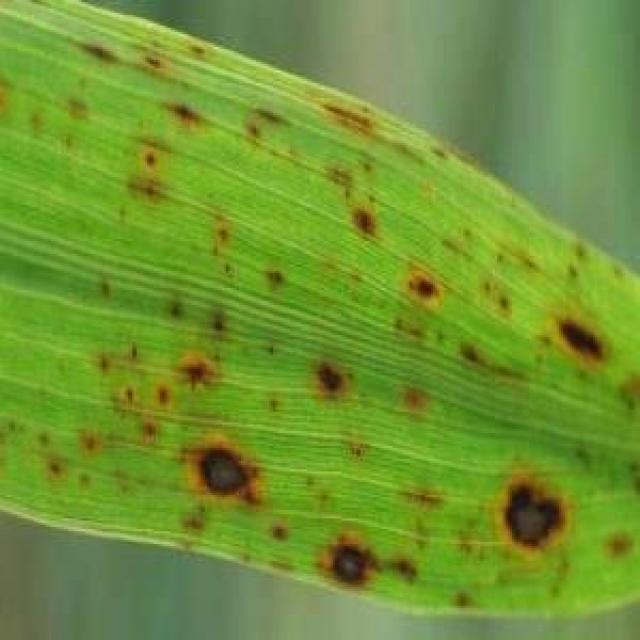Rice: (73, 286, 243, 410), (484, 464, 575, 565), (112, 127, 178, 210), (182, 437, 262, 496), (323, 532, 385, 594), (244, 97, 302, 160), (165, 94, 228, 143), (552, 305, 608, 359), (62, 37, 130, 76), (318, 100, 386, 139), (255, 260, 301, 308), (340, 204, 387, 248), (309, 354, 349, 404), (399, 263, 448, 301), (393, 550, 426, 588), (141, 48, 175, 80)
